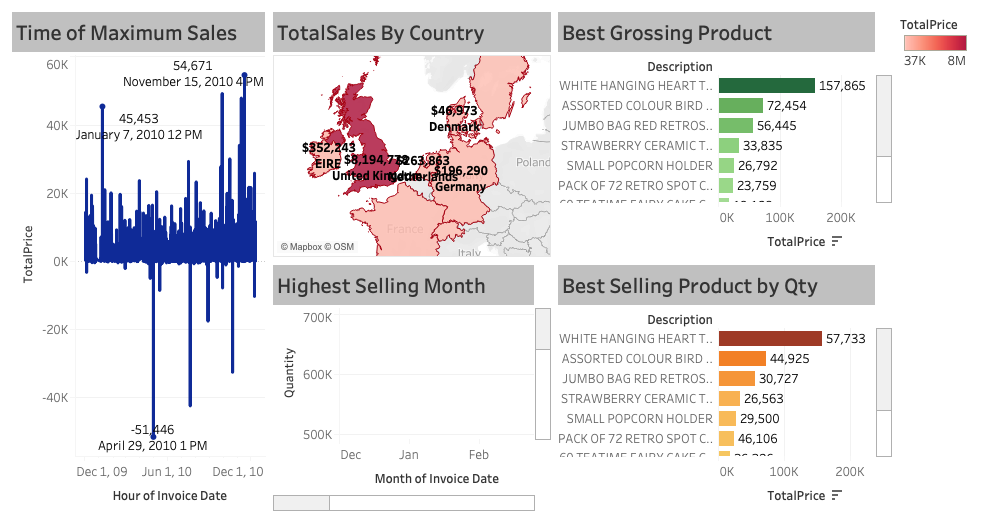

Layout of this report page (visuals, bound fields, positions):
{"tool":"tableau","page":{"name":"Dashboard 1","canvas":[1000,1000],"units":"permille","ordinal":0},"visuals":[{"type":"worksheet","title":"Time of Maximum Sales","mark":"Automatic","rows":["Calculation_39828769752952832"],"cols":["InvoiceDate"],"box":[8.1,15.3,265.2,969.4]},{"type":"worksheet","title":"TotalSales By Country ","mark":"Automatic","box":[273.4,15.3,290.6,484.7]},{"type":"worksheet","title":"Best Grossing Product","mark":"Automatic","rows":["Description"],"cols":["Calculation_39828769752952832"],"box":[563.9,15.3,347.6,484.7]},{"type":"legend","title":"TotalSales By Country ","param":"[federated.0ubnvqj0o2q5ph127phyc0dp1z8u].[sum:Calculation_39828769752952832:qk]","box":[911.5,15.3,80.4,124.3]},{"type":"worksheet","title":"Highest Selling Month ","mark":"Line","rows":["Quantity"],"cols":["InvoiceDate"],"box":[273.4,499.9,290.6,484.8]},{"type":"worksheet","title":"Best Selling Product by Qty","mark":"Automatic","rows":["Description"],"cols":["Calculation_39828769752952832"],"box":[563.9,499.9,347.6,484.8]}]}

Visuals, with their boxes on the dashboard's canvas, which has no fixed pixel size, in thousandths of its width and height (x1, y1, x2, y2). These are canvas units, not pixel positions in the 983x523 screenshot, which may show the page scaled, cropped or inside an application window:
"Time of Maximum Sales" worksheet: <bbox>8, 15, 273, 985</bbox>
"TotalSales By Country " worksheet: <bbox>273, 15, 564, 500</bbox>
"Best Grossing Product" worksheet: <bbox>564, 15, 912, 500</bbox>
"TotalSales By Country " legend: <bbox>912, 15, 992, 140</bbox>
"Highest Selling Month " worksheet (Line marks): <bbox>273, 500, 564, 985</bbox>
"Best Selling Product by Qty" worksheet: <bbox>564, 500, 912, 985</bbox>
